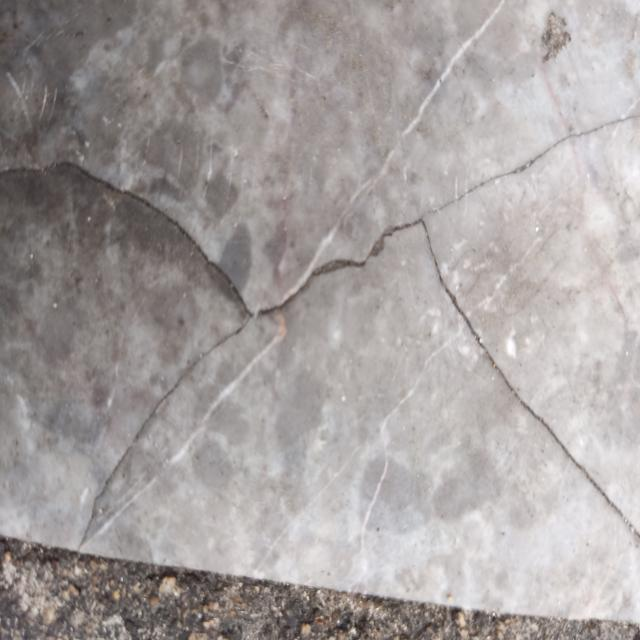branched cracks: (0, 113, 639, 548)
